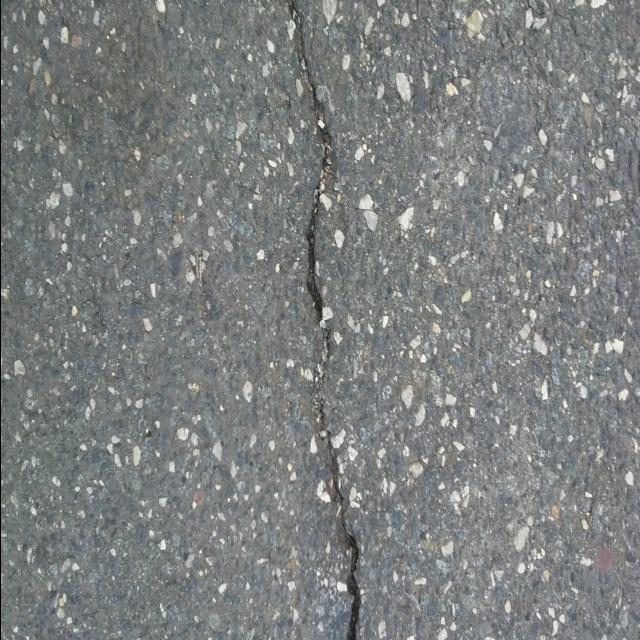Crack: (287, 0, 361, 640)
